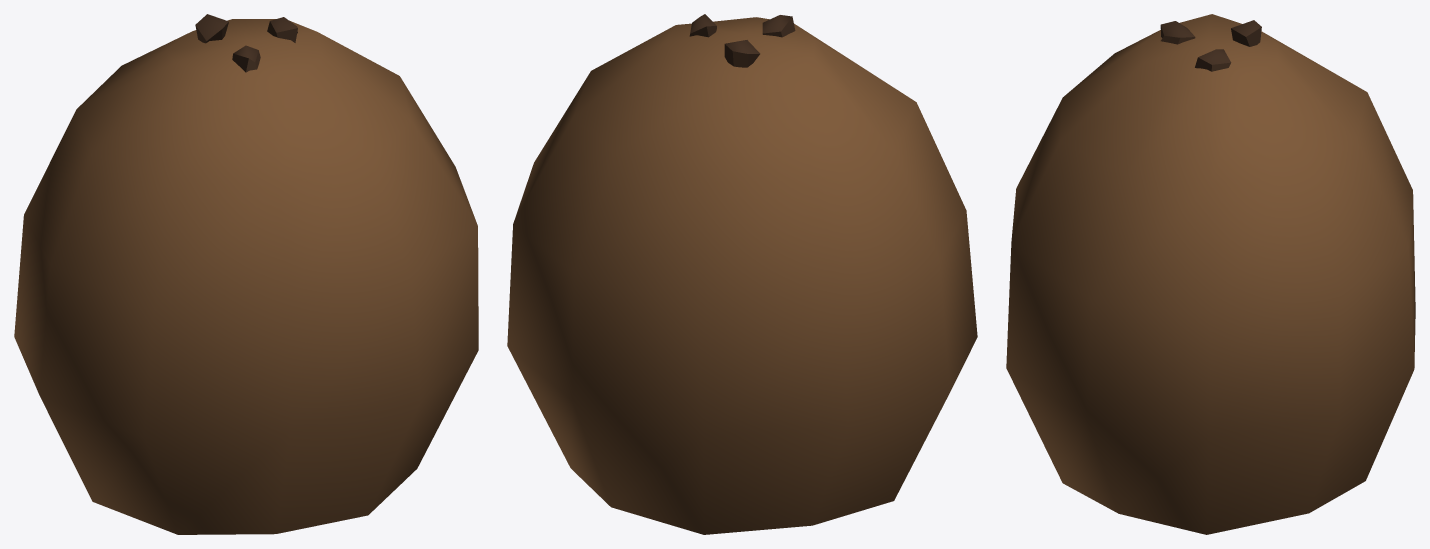
File: fruit_coconut.glb
3 views of the same model, side by side, from view 1: azimuth 30°, elevation 25°; view 2: azimuth 150°, elevation 25°; view 3: azimuth 270°, elevation 25° (orthographic). The views are drawn at different scales.
Visible parts, largest first — view 1: fruit_coconut; view 2: fruit_coconut; view 3: fruit_coconut.
Boxes of the visible parts, x1,y1,x2,y2 form: fruit_coconut: (14, 14, 478, 534); fruit_coconut: (507, 14, 977, 534); fruit_coconut: (1006, 14, 1415, 534).
Bounding box in the file's own units: 0.1229 × 0.1354 × 0.1075.
